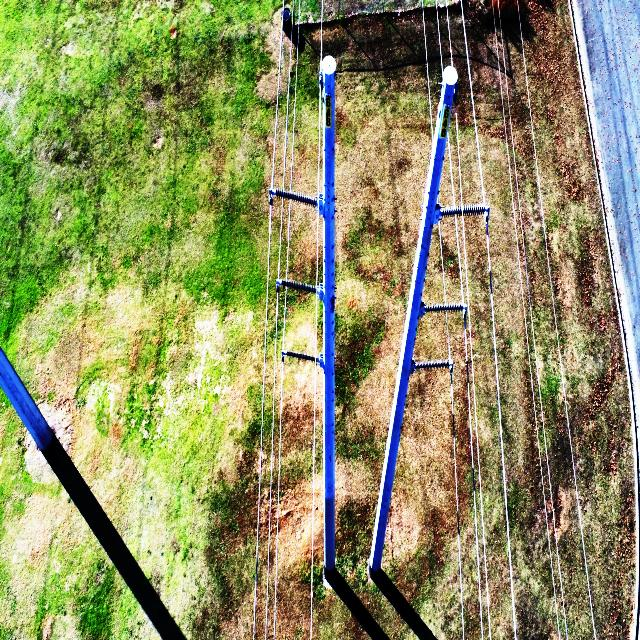poles: (370, 67, 490, 575), (271, 56, 336, 576)
wires: (503, 4, 602, 631), (252, 1, 294, 640), (476, 10, 527, 369), (465, 342, 521, 640), (527, 369, 572, 639), (310, 368, 321, 640), (314, 170, 319, 367)
